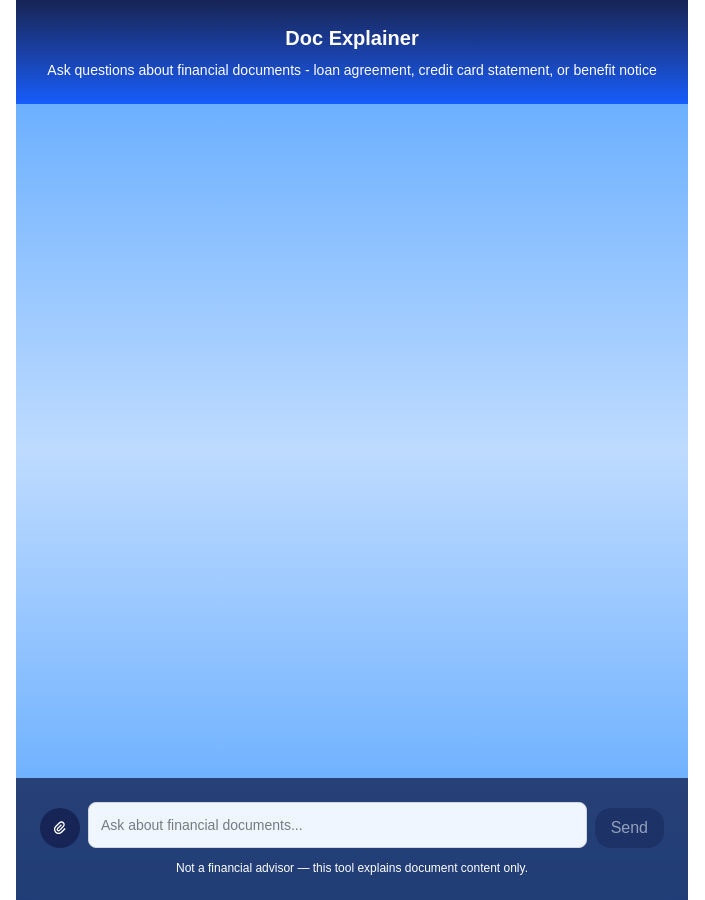
Test: Home › send button › enables once text is entered
This screenshot has width=705, height=900.
Type "What is APR?" into the text box labelled "Ask about financial documents". click: (337, 825)
box: x1=88 y1=802 x2=587 y2=848
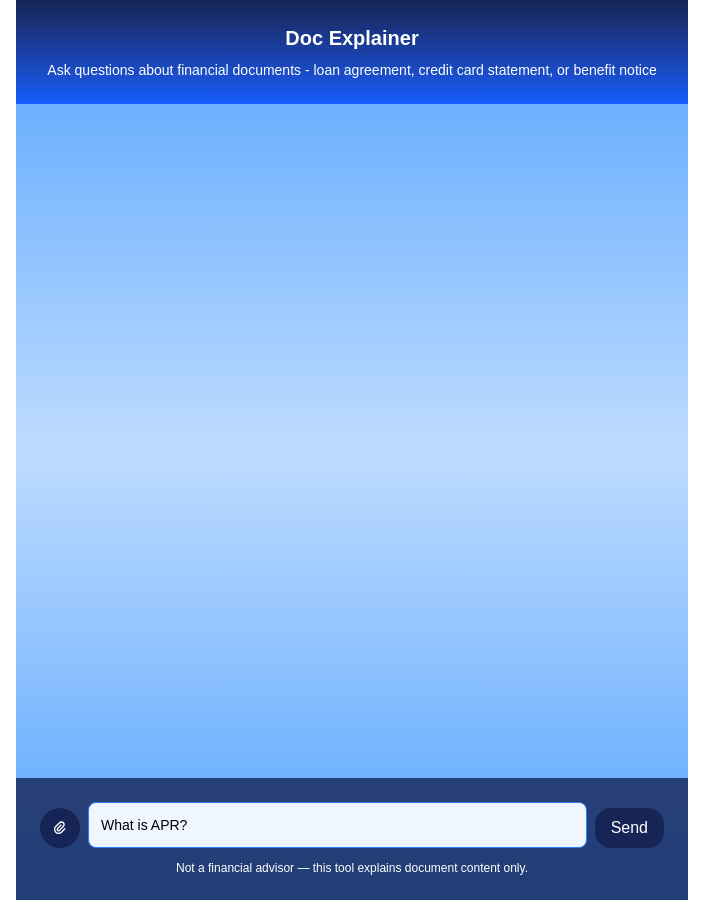
Check: the button "Send" is enabled, box x1=595 y1=808 x2=664 y2=848
